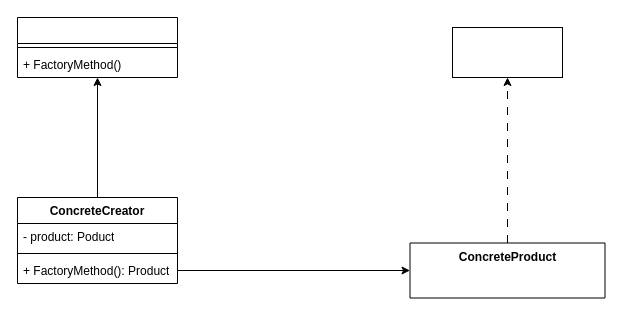
This 623x316 diagram has some shape labels left out. Here are the shapes that lost their labels. From the top down, the box of each, then its label:
(16, 16, 178, 78): Creator
(452, 26, 562, 78): «interface» Product
